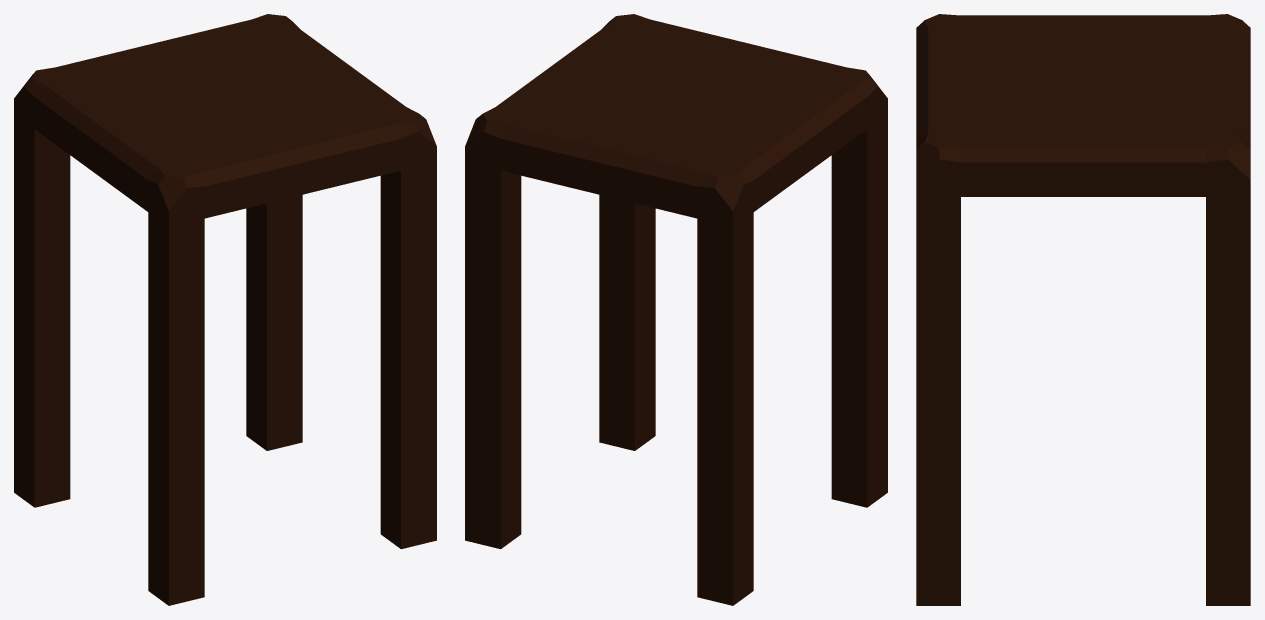
The model's file is Platform.fbx.
3 views of the same model, side by side, from view 1: azimuth 30°, elevation 25°; view 2: azimuth 150°, elevation 25°; view 3: azimuth 270°, elevation 25° (orthographic). The views are drawn at different scales.
Parts seen in each view (by area): view 1: Platform; view 2: Platform; view 3: Platform.
Part boxes in pixels (x1=…): Platform: x1=14, y1=14, x2=436, y2=605; Platform: x1=465, y1=14, x2=887, y2=605; Platform: x1=916, y1=14, x2=1250, y2=605.
Size of the model in its own units: 100 by 150 by 100.
